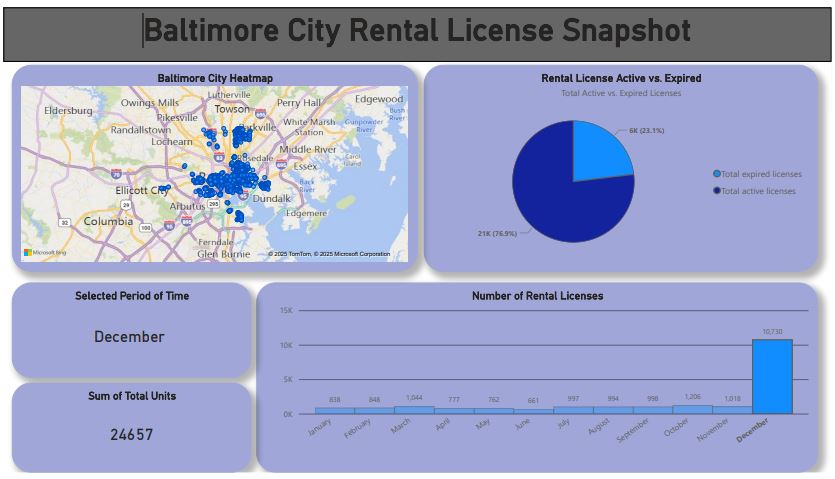

This screenshot's page, from the dashboard's own definition file:
{"tool":"powerbi","page":{"name":"Page 1","canvas":[1280,720],"ordinal":0},"visuals":[{"type":"pieChart","title":"Rental License Active vs. Expired","fields":{"Y":["Sum(license_time_series.expired_count)","Sum(license_time_series.active_count)"]},"box":[650.3,88.7,609,320],"z":0},{"type":"clusteredColumnChart","title":"Number of Rental Licenses","fields":{"Y":["CountNonNull(current_license_summary.license_number)"],"Category":["current_license_summary.expiration_date.Variation.Date Hierarchy.Year","current_license_summary.expiration_date.Variation.Date Hierarchy.Quarter","current_license_summary.expiration_date.Variation.Date Hierarchy.Month","current_license_summary.expiration_date.Variation.Date Hierarchy.Day"]},"box":[390.9,425.7,868.4,294.1],"z":1000},{"type":"actionButton","box":[0,0,100,40],"z":2000},{"type":"map","title":"Baltimore City Heatmap","fields":{"Category":["current_license_summary.full_address"]},"box":[12.6,88.7,627.4,320],"z":3000},{"type":"card","title":"Selected Period of Time","fields":{"Values":["current_license_summary.Selected Period Label"]},"box":[12.6,425.7,370.3,147.8],"z":4000},{"type":"card","title":"Sum of Total Units","fields":{"Values":["Sum(current_license_summary.total_unit_count)"]},"box":[12.6,580.9,370.3,138.9],"z":5000},{"type":"textbox","box":[0,0,1280,83.5],"z":6000}]}

Visuals, with their boxes in screenshot pixels (x1, y1, x2, y2), scaled from the page's 1280x720 canvas onto the 835x479 screenshot:
"Rental License Active vs. Expired" pieChart: locate(424, 59, 821, 272)
"Number of Rental Licenses" clusteredColumnChart: locate(255, 283, 821, 478)
actionButton: locate(0, 0, 65, 27)
"Baltimore City Heatmap" map: locate(8, 59, 418, 272)
"Selected Period of Time" card: locate(8, 283, 250, 382)
"Sum of Total Units" card: locate(8, 386, 250, 478)
textbox: locate(0, 0, 834, 56)
